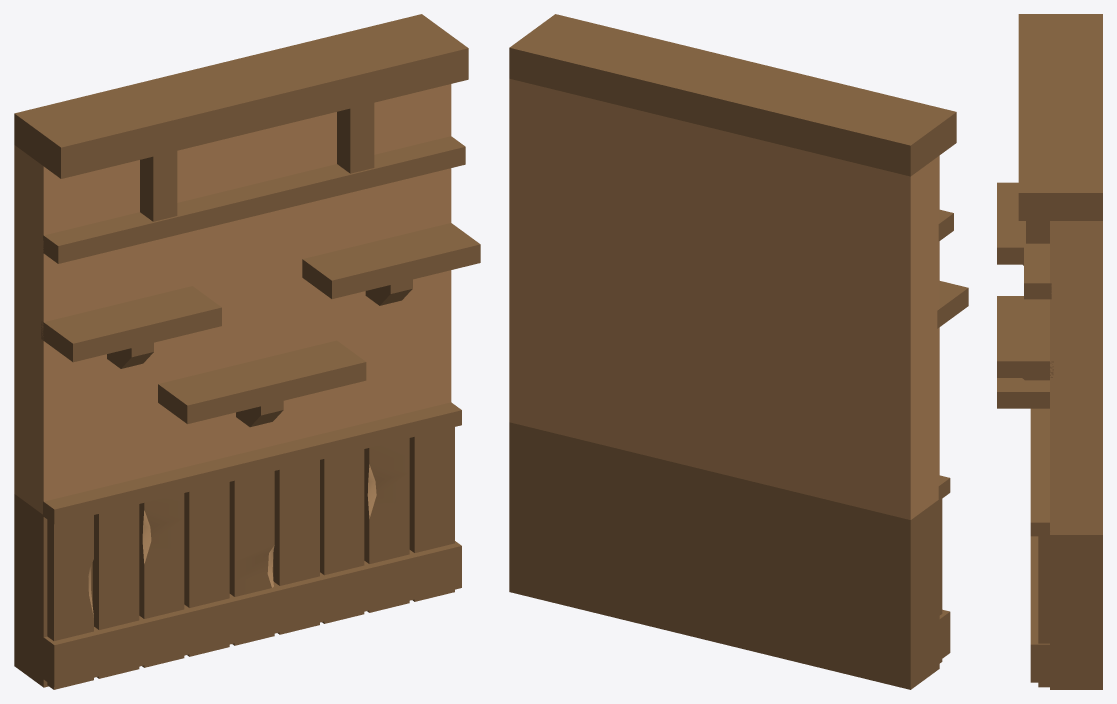
File: wall-shelves.glb
The picture shows the model from 3 angles, left to right: view 1: azimuth 30°, elevation 25°; view 2: azimuth 150°, elevation 25°; view 3: azimuth 270°, elevation 25°; orthographic projection. The views are drawn at different scales.
Visible parts, largest first — view 1: Wall_Shelves; view 2: Wall_Shelves; view 3: Wall_Shelves.
Boxes of the visible parts, left/top/right/bottom form: Wall_Shelves: left=14, top=14, right=480, bottom=689; Wall_Shelves: left=509, top=14, right=968, bottom=689; Wall_Shelves: left=997, top=14, right=1102, bottom=689.
Size of the model in its own units: 4 by 5.18 by 0.9993.
